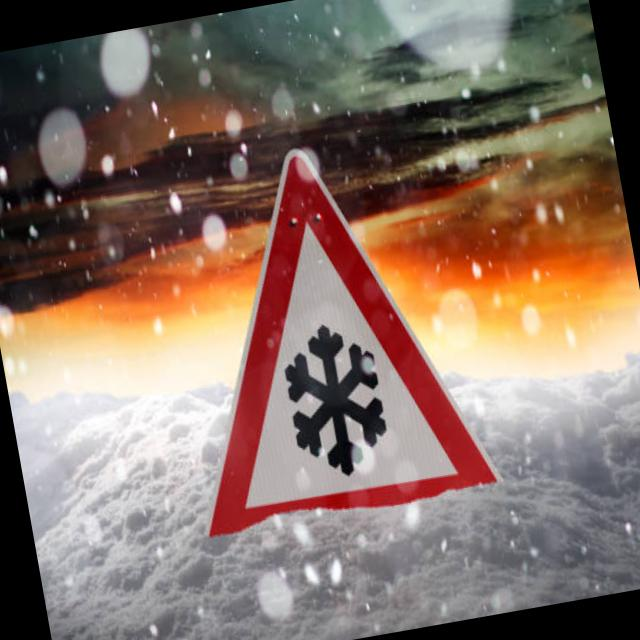snow_warning: (128, 115, 514, 558)
